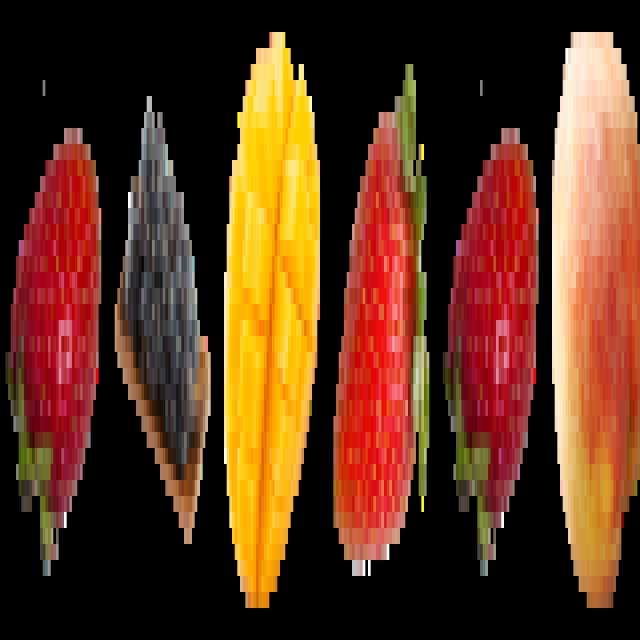grape: (112, 90, 212, 567)
mango: (222, 38, 323, 614)
peach: (549, 16, 640, 608)
strawberry: (332, 51, 431, 572), (3, 118, 103, 584), (442, 115, 543, 573)
